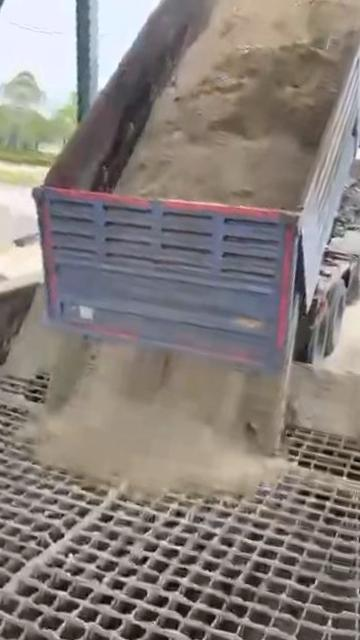sand: (0, 292, 360, 493), (119, 0, 360, 209), (0, 489, 118, 640), (0, 378, 41, 413)
